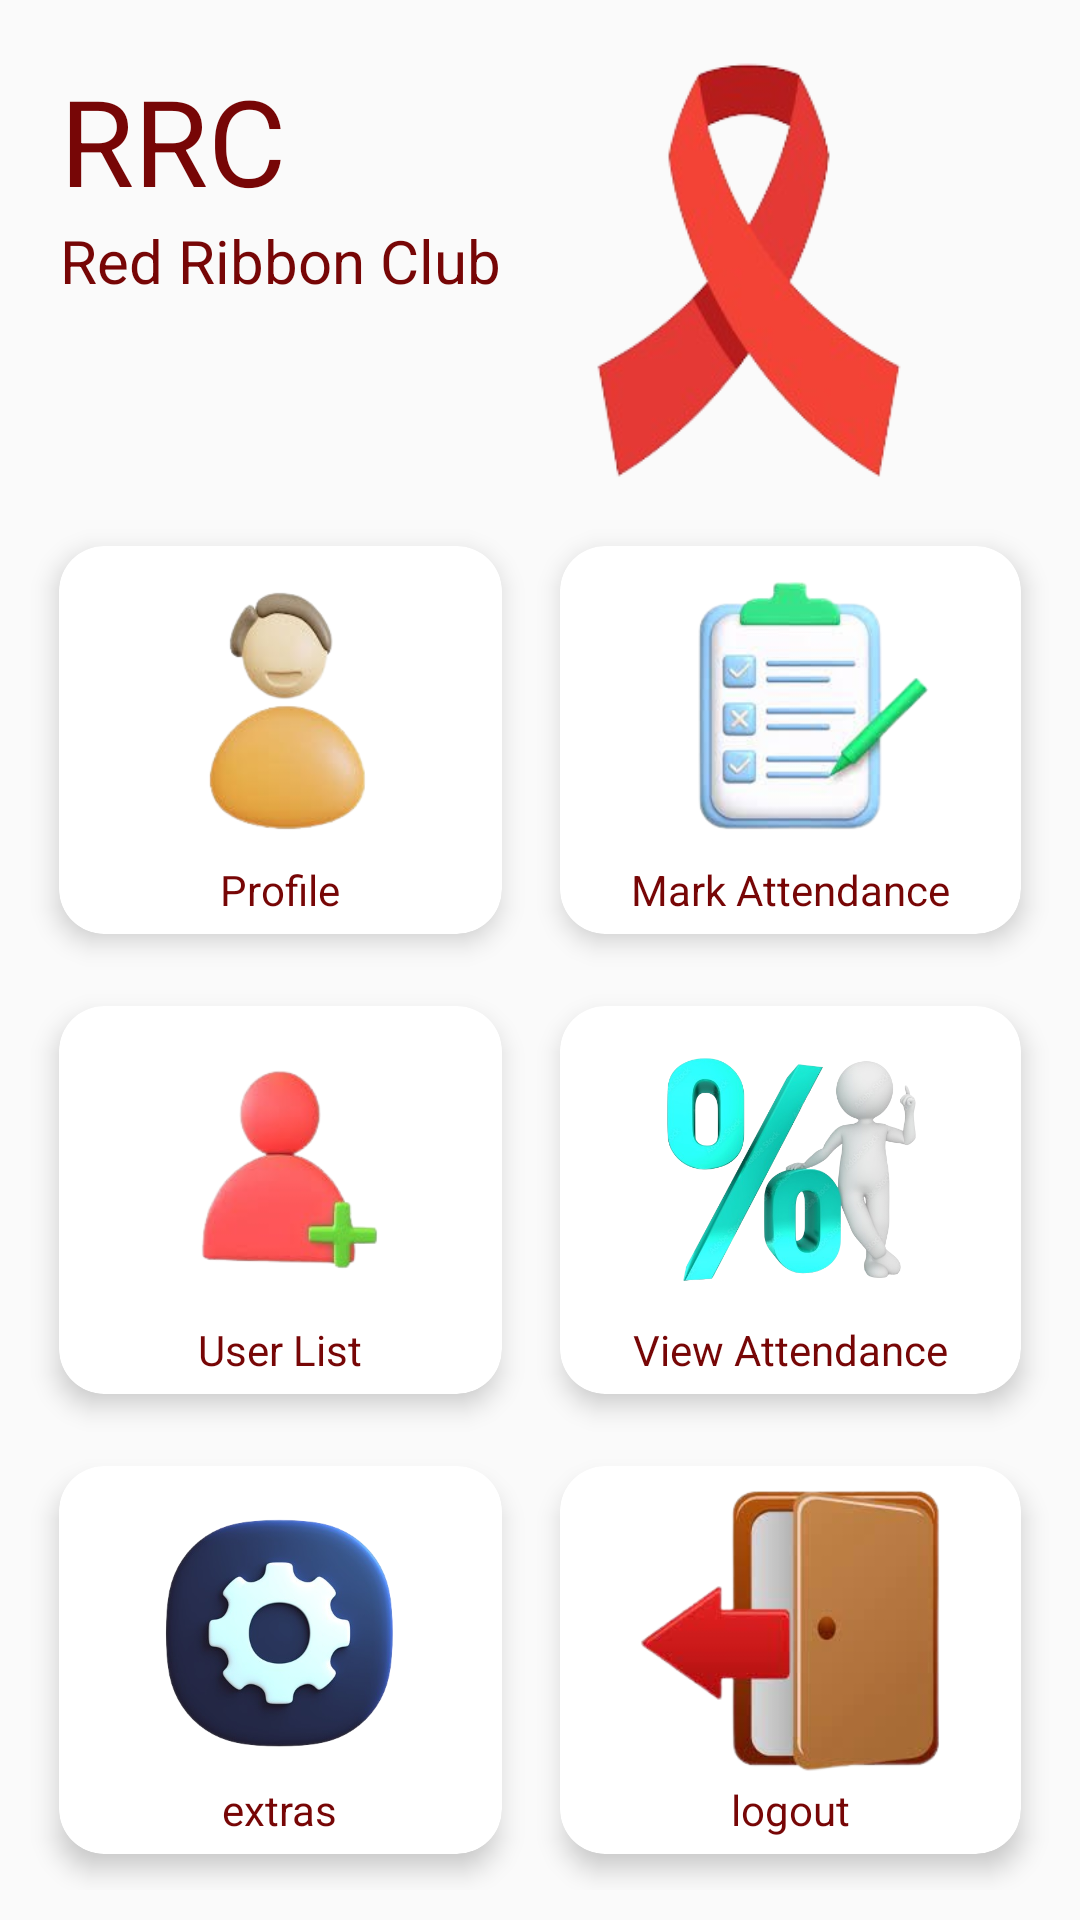

Point at icon controls on the screen. Image size 1080*1920, points as point (x, y).
addusers: point (289, 1169)
